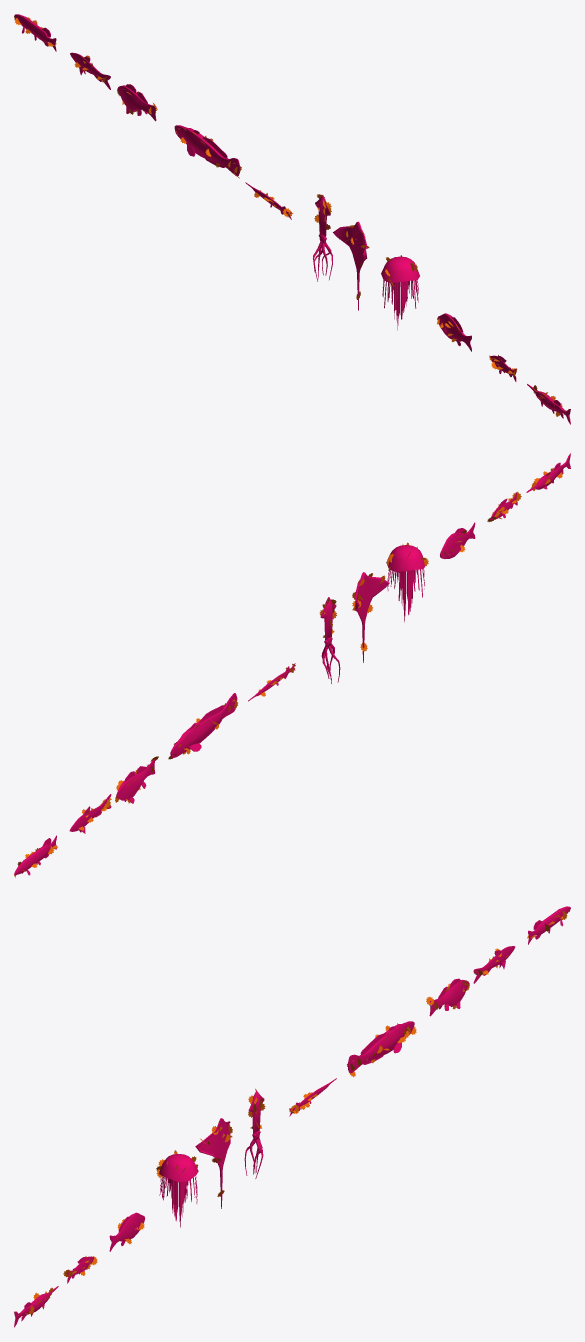
File: fish_cogs.fbx
3 views of the same model, one above another, from view 1: azimuth 30°, elevation 25°; view 2: azimuth 150°, elevation 25°; view 3: azimuth 330°, elevation 25° (orthographic).
Parts seen in each view (by area): view 1: fish_cogs.010, fish_cogs.006, fish_cogs.003, fish_cogs.004, fish_cogs.007, fish_cogs.002, fish_cogs.009; view 2: fish_cogs.010, fish_cogs.006, fish_cogs.003, fish_cogs.007, fish_cogs.004, fish_cogs.002, fish_cogs.009; view 3: fish_cogs.010, fish_cogs.006, fish_cogs.003, fish_cogs.004, fish_cogs.007, fish_cogs.002.
Part boxes in pixels (x1=…): fish_cogs.010: x1=381, y1=256, x2=419, y2=330; fish_cogs.006: x1=174, y1=125, x2=240, y2=176; fish_cogs.003: x1=333, y1=221, x2=367, y2=310; fish_cogs.004: x1=313, y1=195, x2=332, y2=281; fish_cogs.007: x1=118, y1=84, x2=156, y2=121; fish_cogs.002: x1=437, y1=313, x2=471, y2=351; fish_cogs.009: x1=14, y1=14, x2=56, y2=51; fish_cogs.010: x1=386, y1=545, x2=425, y2=622; fish_cogs.006: x1=170, y1=693, x2=237, y2=757; fish_cogs.003: x1=354, y1=572, x2=389, y2=662; fish_cogs.007: x1=116, y1=759, x2=155, y2=803; fish_cogs.004: x1=320, y1=597, x2=340, y2=683; fish_cogs.002: x1=440, y1=522, x2=475, y2=558; fish_cogs.009: x1=14, y1=835, x2=56, y2=875; fish_cogs.010: x1=159, y1=1154, x2=198, y2=1227; fish_cogs.006: x1=347, y1=1021, x2=414, y2=1073; fish_cogs.003: x1=195, y1=1118, x2=230, y2=1208; fish_cogs.004: x1=244, y1=1090, x2=264, y2=1178; fish_cogs.007: x1=429, y1=978, x2=468, y2=1016; fish_cogs.002: x1=109, y1=1212, x2=145, y2=1251.
Bounding box in the file's own units: 55.97 × 140 × 1537.
